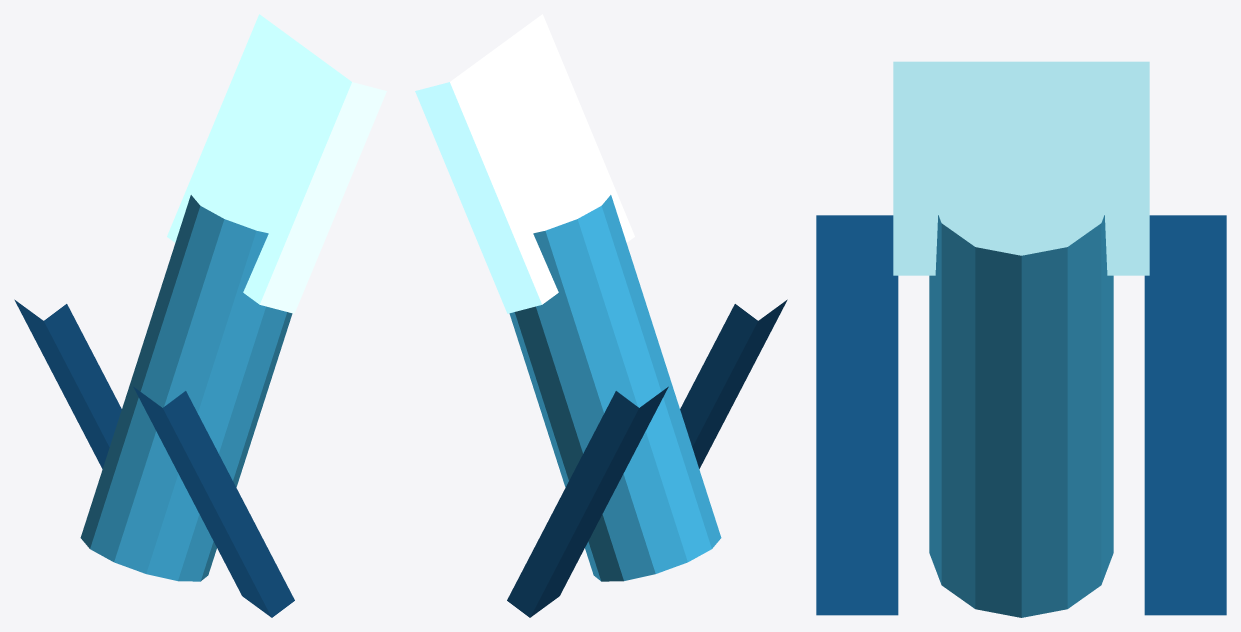
File: morphling.glb
3 renders of one model, left to right at view 1: azimuth 30°, elevation 25°; view 2: azimuth 150°, elevation 25°; view 3: azimuth 270°, elevation 25°, orthographic. The views are drawn at different scales.
Parts seen in each view (by area): view 1: morphling-wave-body, morphling-crest-wave, morphling-ripple-l, morphling-ripple-r; view 2: morphling-wave-body, morphling-crest-wave, morphling-ripple-r, morphling-ripple-l; view 3: morphling-wave-body, morphling-crest-wave, morphling-ripple-l, morphling-ripple-r.
Boxes of the visible parts, <box> form: morphling-wave-body: <box>80,195,292,581</box>; morphling-crest-wave: <box>167,14,386,313</box>; morphling-ripple-l: <box>133,386,294,617</box>; morphling-ripple-r: <box>14,299,121,468</box>; morphling-wave-body: <box>509,195,721,581</box>; morphling-crest-wave: <box>415,14,634,313</box>; morphling-ripple-r: <box>507,386,668,617</box>; morphling-ripple-l: <box>680,299,787,468</box>; morphling-wave-body: <box>929,215,1113,617</box>; morphling-crest-wave: <box>893,61,1149,275</box>; morphling-ripple-l: <box>816,215,898,615</box>; morphling-ripple-r: <box>1144,215,1226,615</box>.
Size of the model in its own units: 0.7832 by 1.45 by 0.8.
